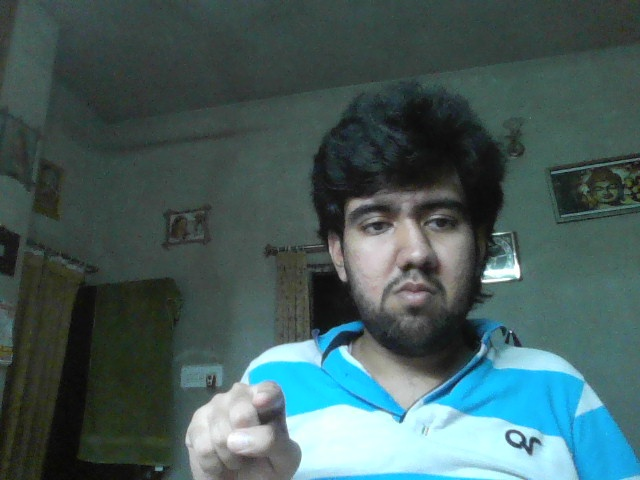You: (187, 380, 301, 480)
